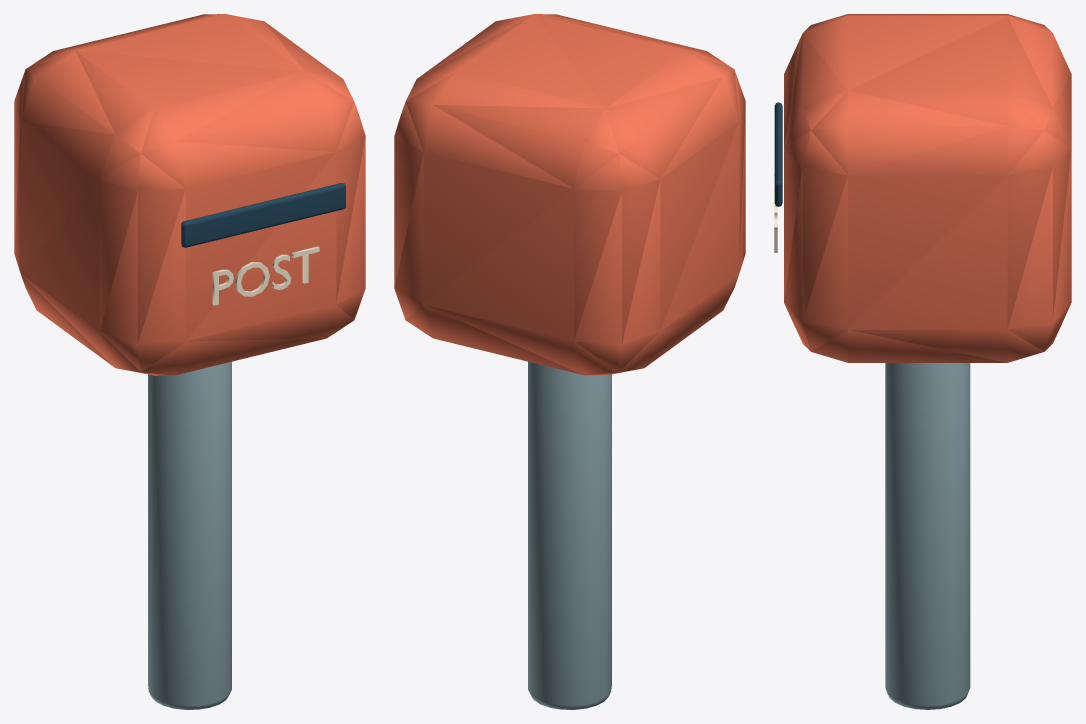
Rendered from Postbox.fbx.
3 renders of one model, left to right at view 1: azimuth 30°, elevation 25°; view 2: azimuth 150°, elevation 25°; view 3: azimuth 270°, elevation 25°, orthographic.
Parts seen in each view (by area): view 1: GEO-Body; view 2: GEO-Body; view 3: GEO-Body.
Part boxes in pixels (bbox=[...]): GEO-Body: bbox=[14, 14, 365, 709]; GEO-Body: bbox=[394, 14, 745, 709]; GEO-Body: bbox=[774, 14, 1071, 709].
Bounding box in the file's own units: 0.57 × 1.33 × 0.558.
